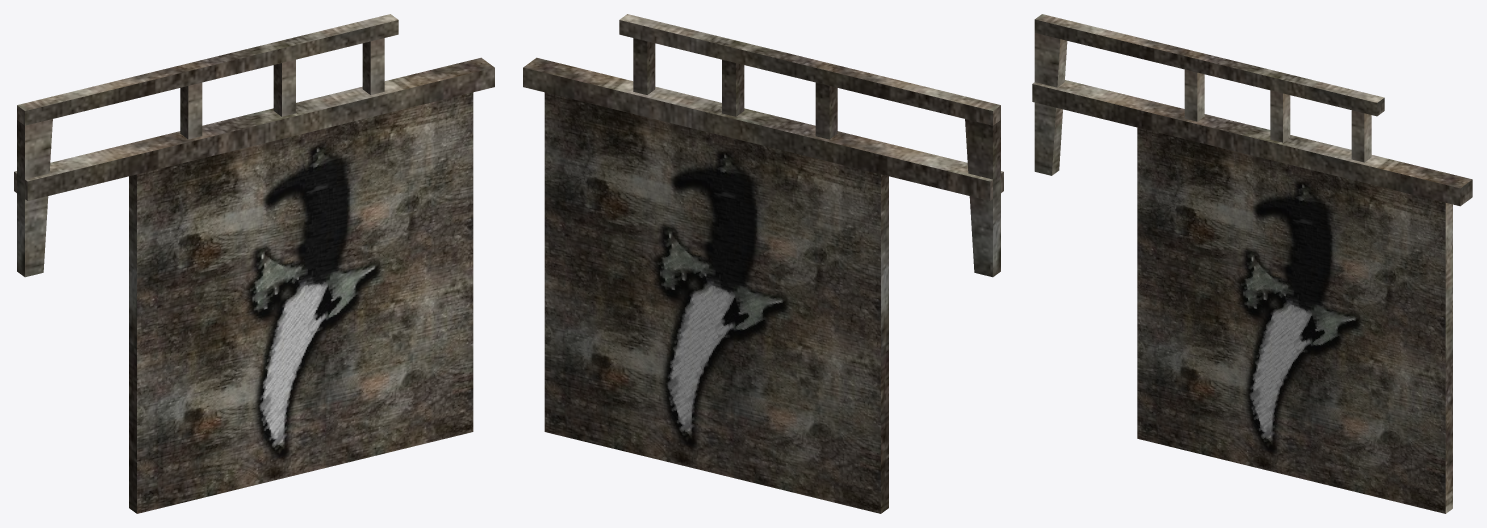
Rendered from signs_rogue1.glb.
3 views of the same model, side by side, from view 1: azimuth 30°, elevation 25°; view 2: azimuth 150°, elevation 25°; view 3: azimuth 330°, elevation 25° (orthographic). The views are drawn at different scales.
Parts seen in each view (by area): view 1: rogue1; view 2: rogue1; view 3: rogue1.
Boxes of the visible parts, x1=… form: rogue1: x1=14, y1=14, x2=494, y2=513; rogue1: x1=523, y1=14, x2=1003, y2=513; rogue1: x1=1032, y1=14, x2=1472, y2=513.
Size of the model in its own units: 3.12 by 2.75 by 0.1562.
Materials: 2 (2 with a texture image).
